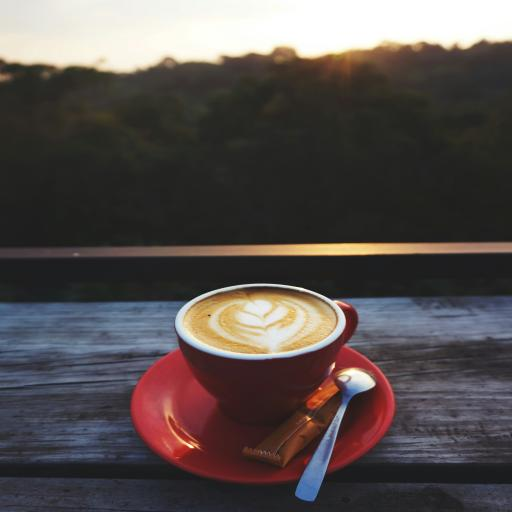cup: (174, 283, 358, 425)
